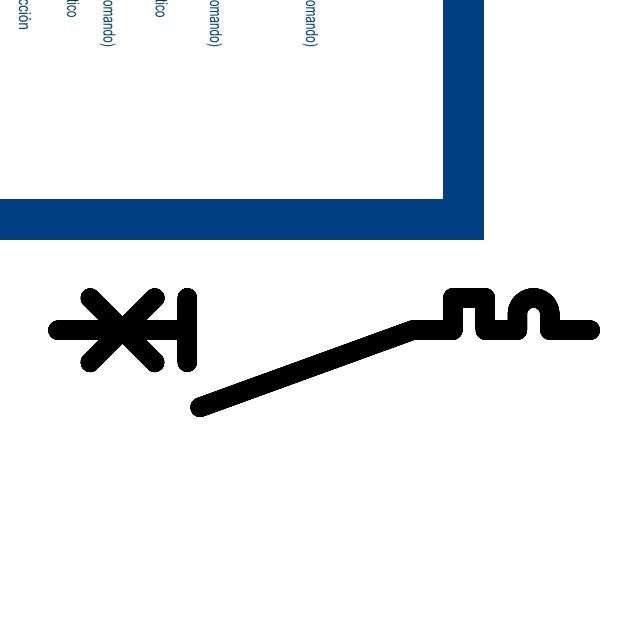interruptor_termomagnetico: (44, 284, 604, 421)
